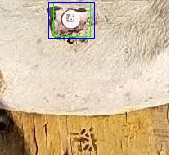text: (53, 2, 90, 36)
